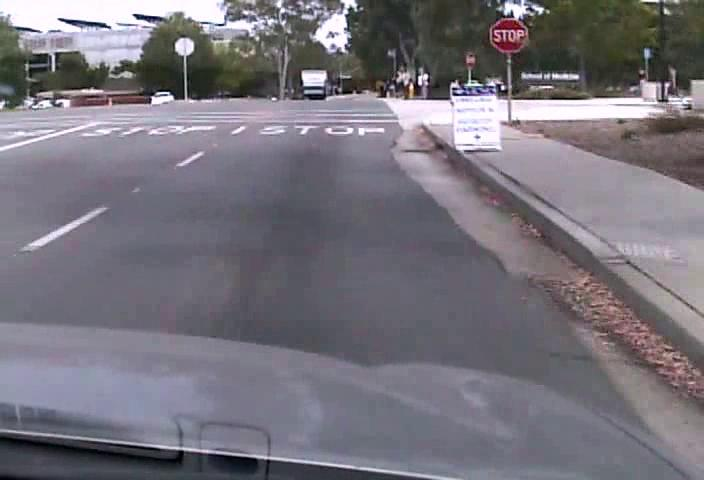stop: (489, 17, 528, 53)
